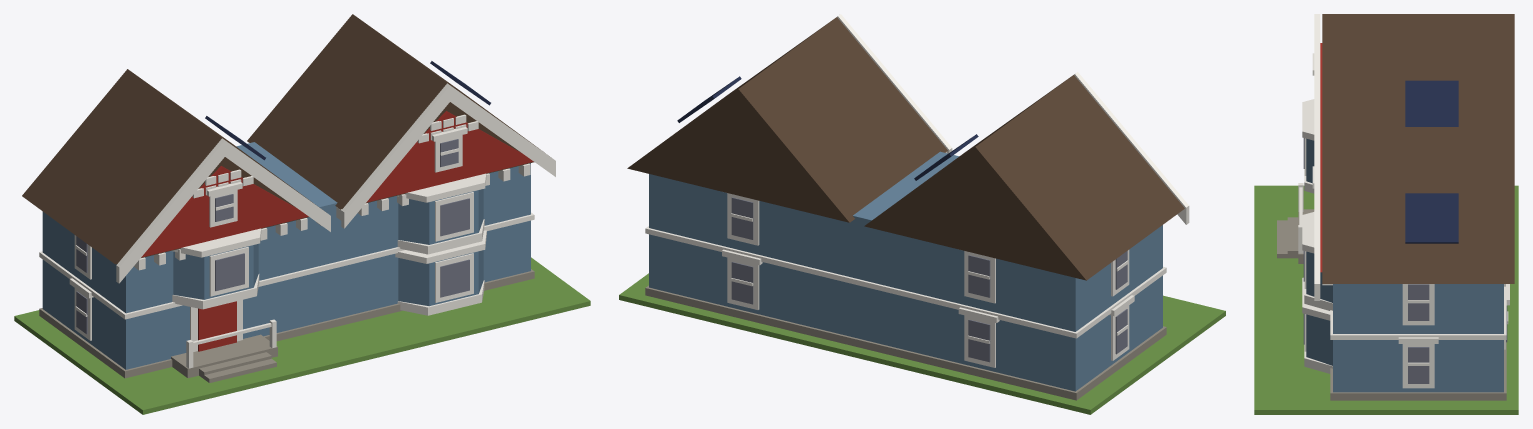
File: house-2x1-2f-third-victorian-a-solar.glb
The picture shows the model from 3 angles, left to right: view 1: azimuth 30°, elevation 25°; view 2: azimuth 150°, elevation 25°; view 3: azimuth 270°, elevation 25°; orthographic projection. The views are drawn at different scales.
Parts seen in each view (by area): view 1: house-2x1-2f-third-victorian-a-solar; view 2: house-2x1-2f-third-victorian-a-solar; view 3: house-2x1-2f-third-victorian-a-solar.
Boxes of the visible parts, x1,y1,x2,y2 form: house-2x1-2f-third-victorian-a-solar: (14,14,590,414); house-2x1-2f-third-victorian-a-solar: (619,14,1225,414); house-2x1-2f-third-victorian-a-solar: (1254,14,1518,414).
Bounding box in the file's own units: 1.99 × 0.96 × 0.99.
1 material, 1 textured.
